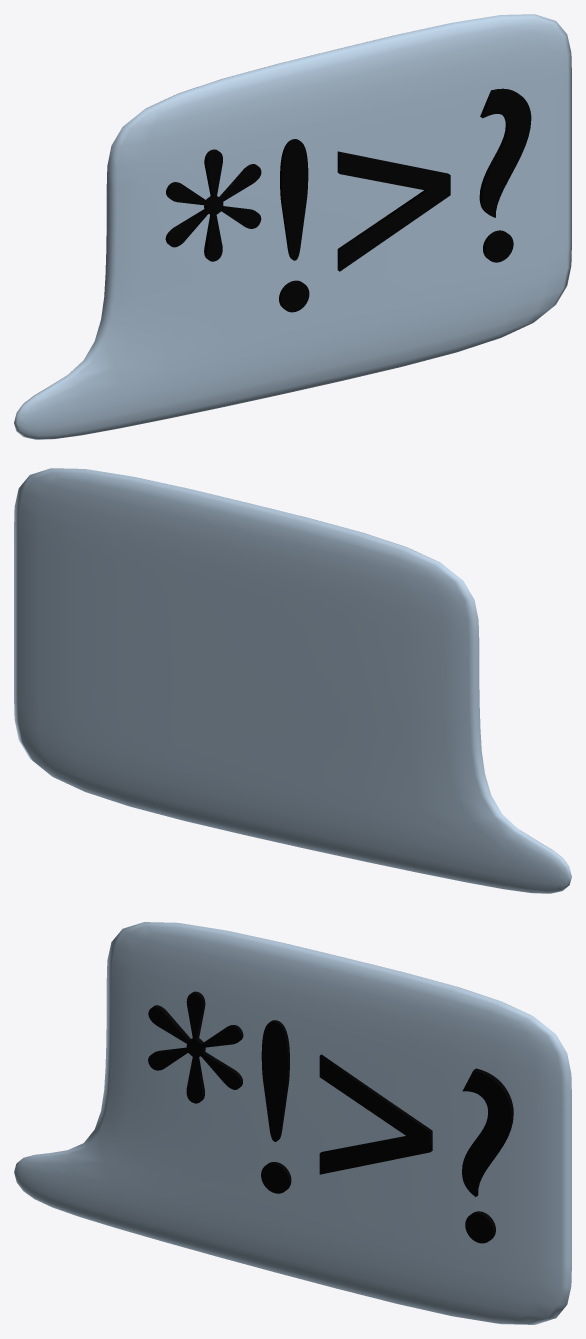
Rendered from foshboland2.fbx.
3 renders of one model, top to bottom at view 1: azimuth 30°, elevation 25°; view 2: azimuth 150°, elevation 25°; view 3: azimuth 330°, elevation 25°, orthographic.
Parts seen in each view (by area): view 1: Cube, Text; view 2: Cube; view 3: Cube, Text.
Boxes of the visible parts, left/top/right/bottom form: Cube: left=14, top=14, right=571, bottom=439; Text: left=165, top=88, right=531, bottom=312; Cube: left=14, top=468, right=571, bottom=893; Cube: left=14, top=922, right=571, bottom=1324; Text: left=148, top=991, right=513, bottom=1243.
Bounding box in the file's own units: 186 × 106 × 10.54.
